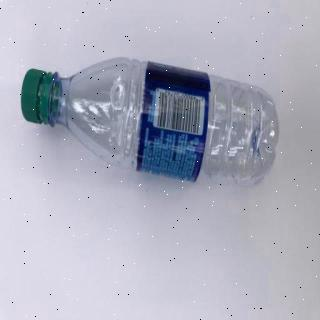Plastic-bottle: (21, 56, 281, 188)
